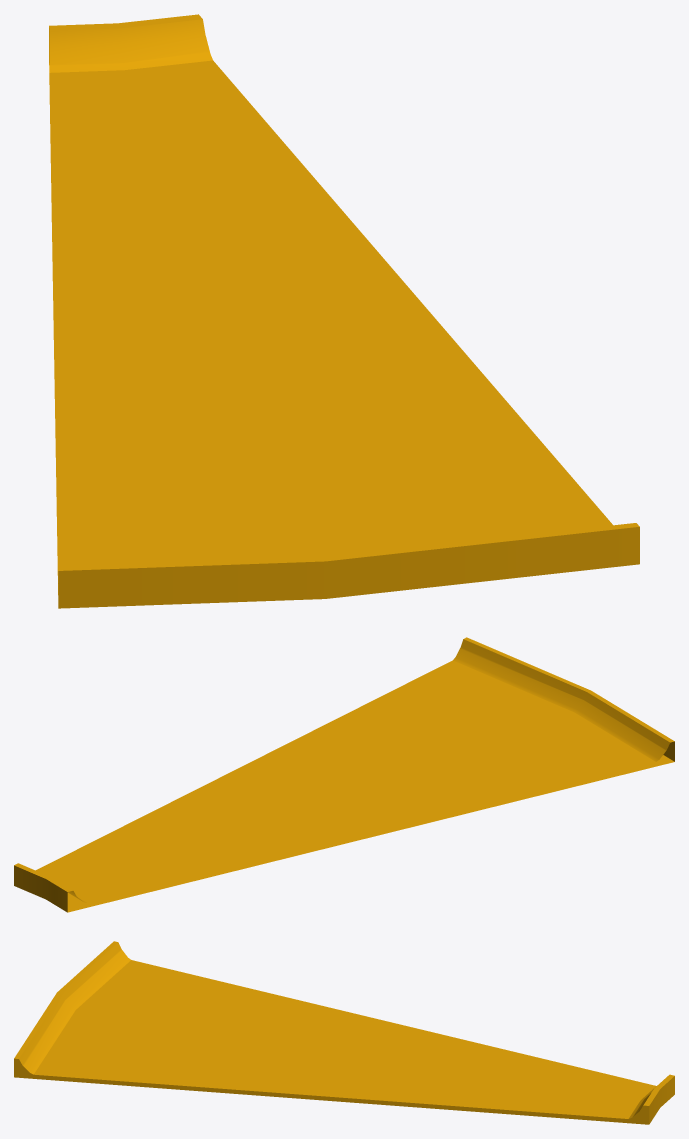
Rendered from 14mTrack_Blockout_18DTurn.fbx.
The picture shows the model from 3 angles, top to bottom: view 1: azimuth 30°, elevation 25°; view 2: azimuth 150°, elevation 25°; view 3: azimuth 270°, elevation 25°; orthographic projection. The views are drawn at different scales.
Parts seen in each view (by area): view 1: polySurface110; view 2: polySurface110; view 3: polySurface110.
Part boxes in pixels (left/top/right/bottom): polySurface110: left=49, top=14, right=639, bottom=608; polySurface110: left=14, top=637, right=674, bottom=912; polySurface110: left=14, top=941, right=674, bottom=1124.
Size of the model in its own units: 846 by 45 by 1435.
